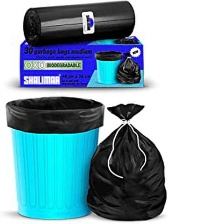plastic_bag: (82, 99, 187, 221), (20, 0, 141, 48), (1, 93, 108, 136), (115, 52, 144, 85), (91, 50, 128, 61)
